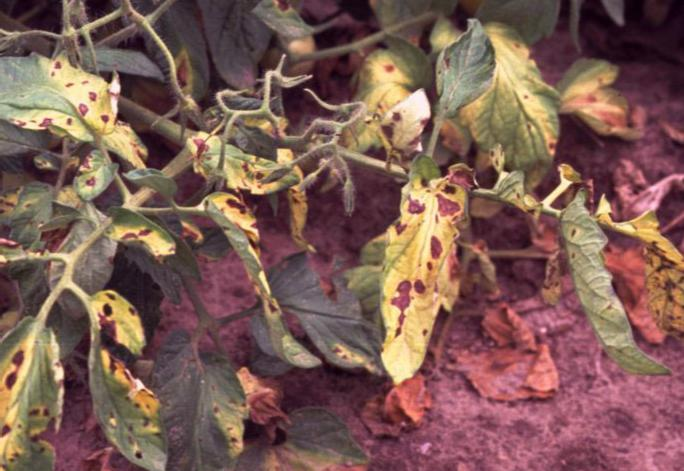Tomato Early blight leaf: (380, 157, 487, 380), (0, 39, 156, 160), (79, 292, 176, 471), (0, 319, 80, 471), (622, 209, 684, 358)
